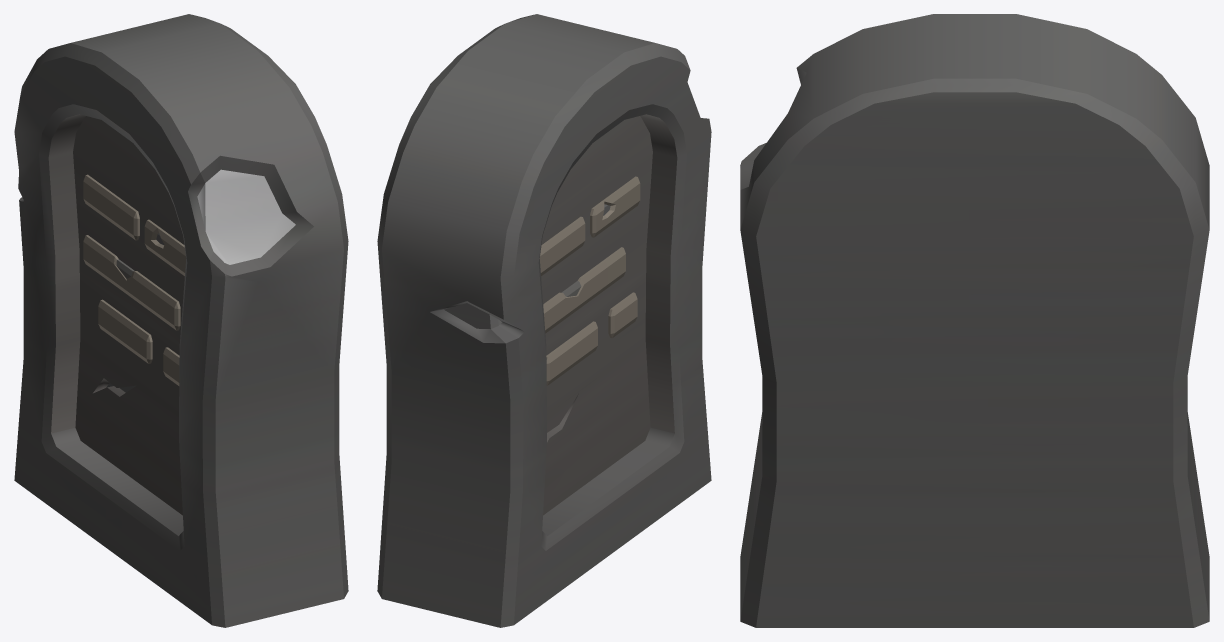
Rendered from Tombstone_2.glb.
The picture shows the model from 3 angles, left to right: view 1: azimuth 30°, elevation 25°; view 2: azimuth 150°, elevation 25°; view 3: azimuth 270°, elevation 25°; orthographic projection. The views are drawn at different scales.
Visible parts, largest first — view 1: Tombstone_2; view 2: Tombstone_2; view 3: Tombstone_2.
Part boxes in pixels (x1,y1,x2,y2): Tombstone_2: (14, 14, 348, 627); Tombstone_2: (377, 14, 711, 627); Tombstone_2: (740, 14, 1209, 627).
Size of the model in its own units: 0.2612 by 0.8799 by 0.6893.
Materials: 1 (1 with a texture image).
